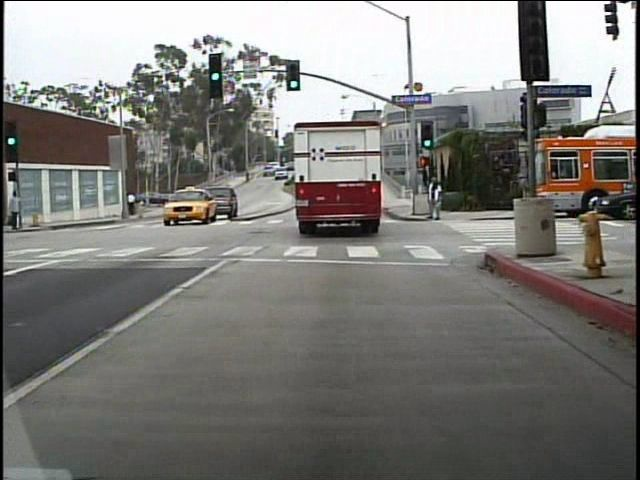person: (423, 175, 447, 223), (12, 189, 26, 233), (124, 187, 141, 220)
